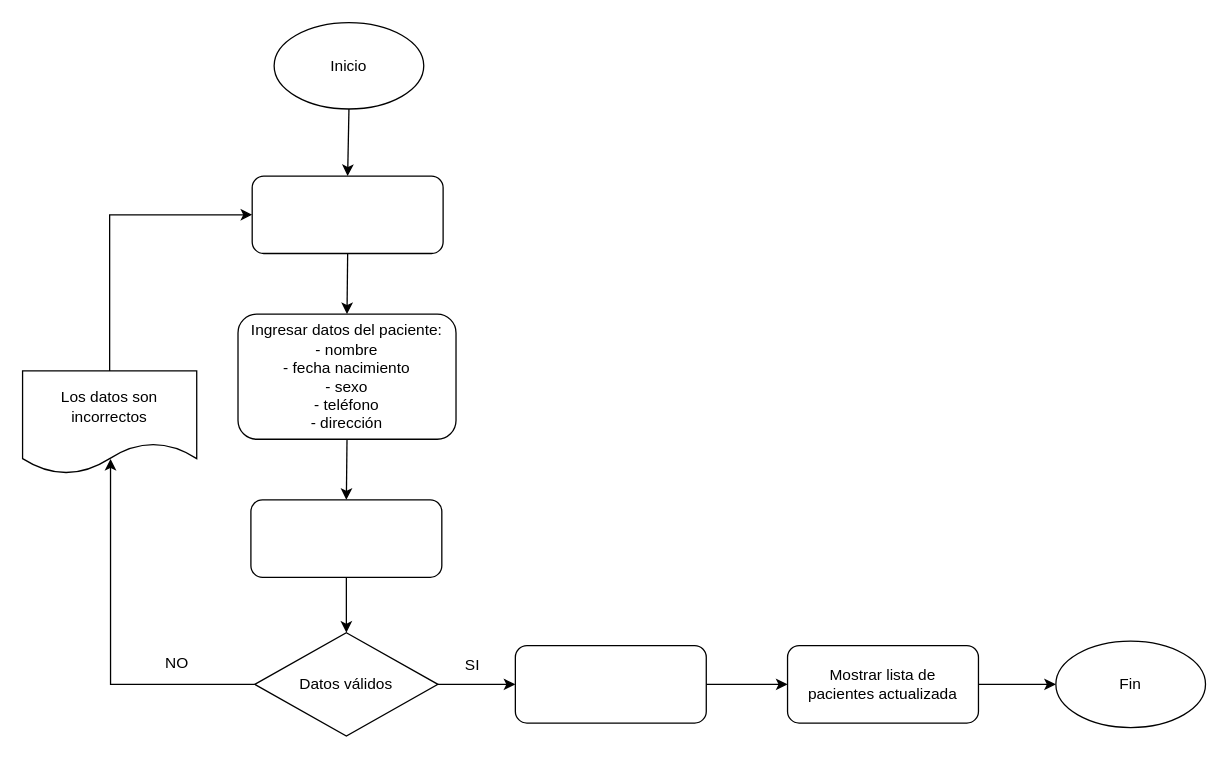
The diagram is 1228 pixels wide and 759 high, and some of its shapes have lost their labels. Each missing label, with the centre of its shape:
"Mostrar formulario" belongs at point (347, 214).
"Registrar paciente en la Base de Datos" belongs at point (610, 683).
"Validar datos" belongs at point (346, 538).
